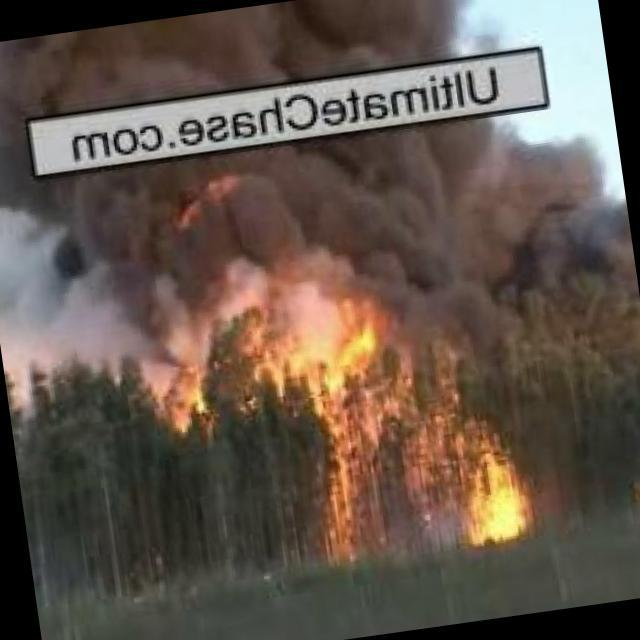Fire: (287, 311, 410, 573), (449, 425, 542, 557), (145, 311, 231, 424)
